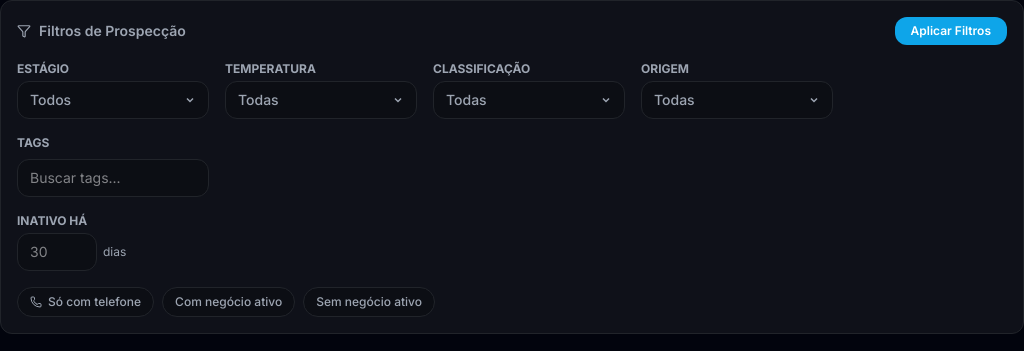
Scenario: ProspectingFilters › renders all temperature options
Click the button "Todas" below "Temperatura".
click(321, 100)  # box 225,81 -> 417,119
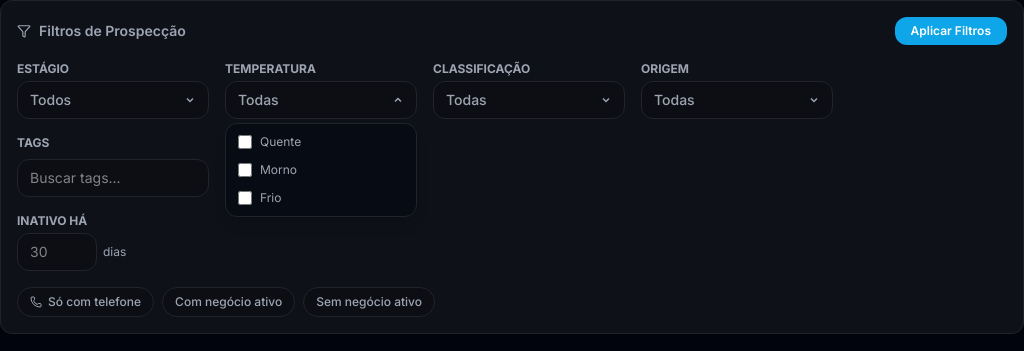
Expected: the text "Quente" is shown, 238,134 -> 301,149
Expected: the text "Morno" is shown, 238,162 -> 297,177
Expected: the text "Frio" is shown, 238,190 -> 282,205
